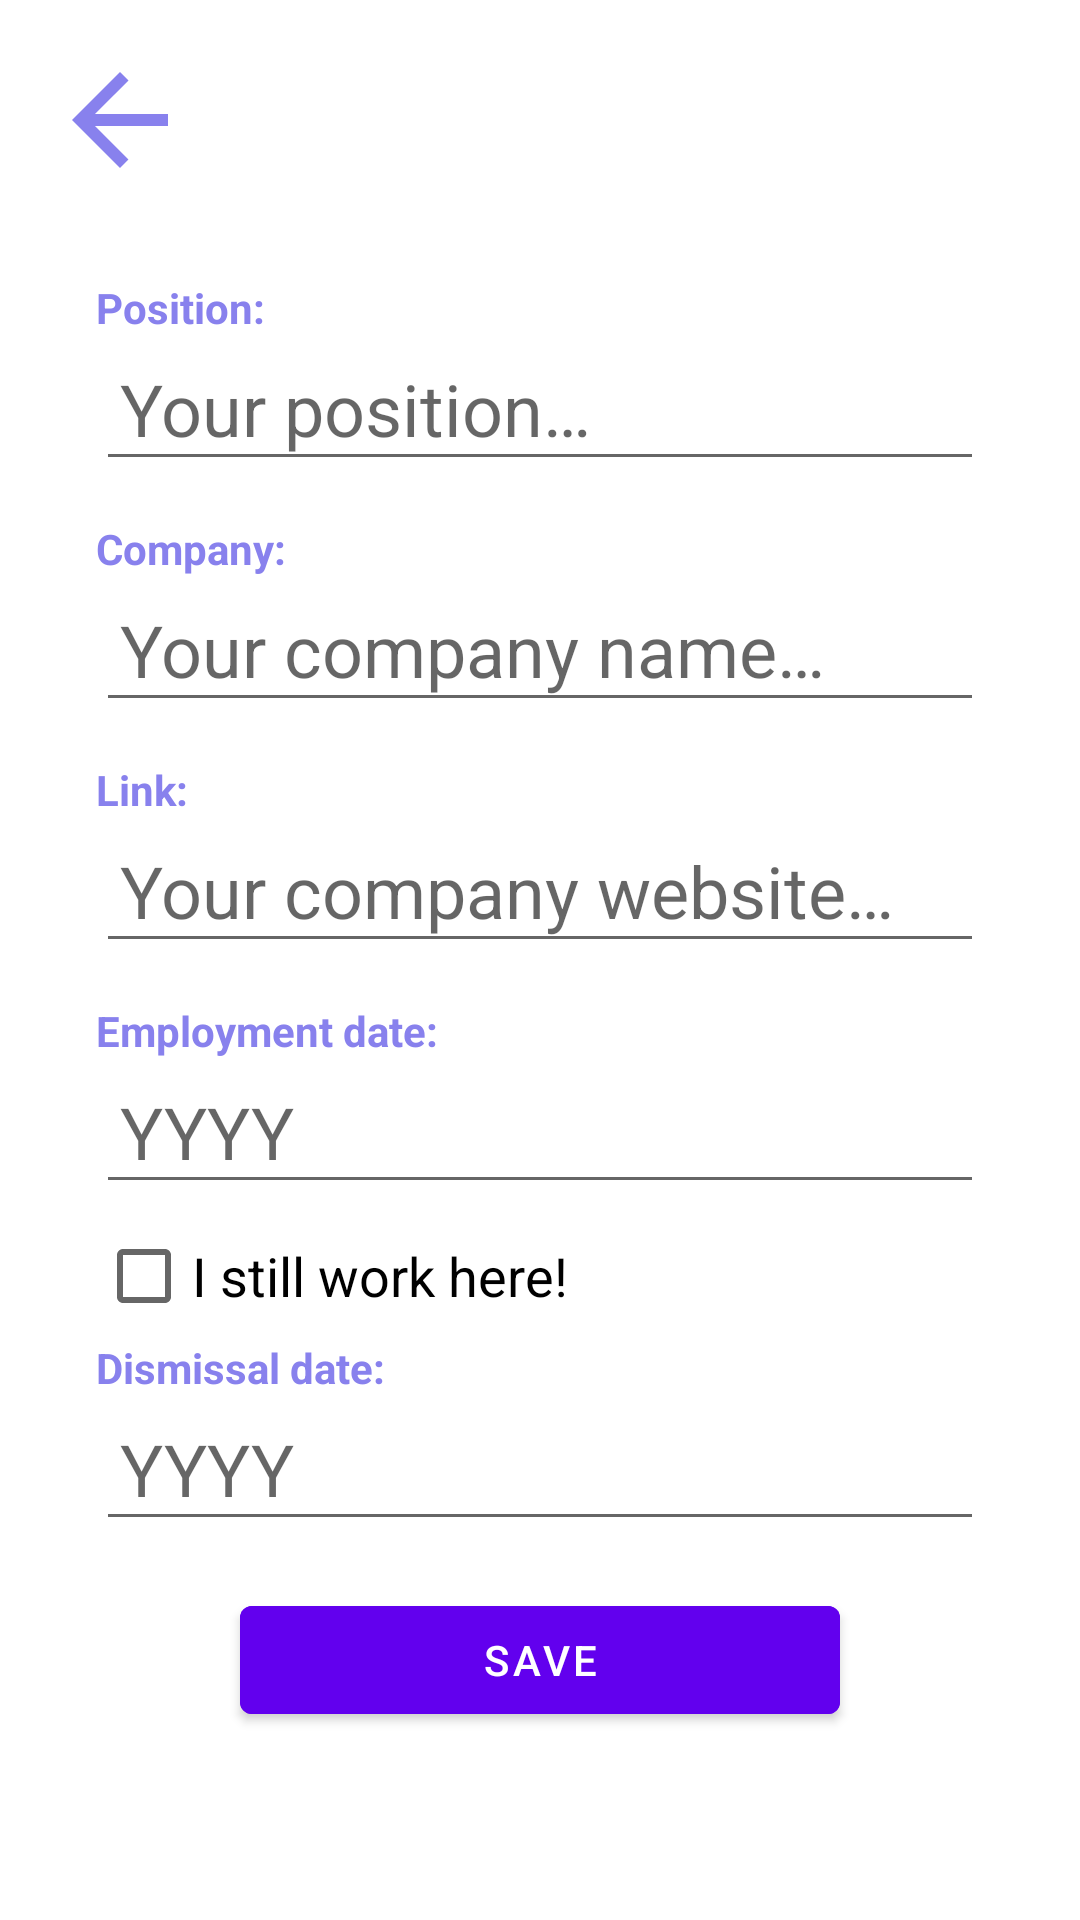

Locate icon controls on the screen. Image size 1080px×1920px, boxes as rect(x1, y1, x2, y2).
back: rect(72, 72, 168, 168)
